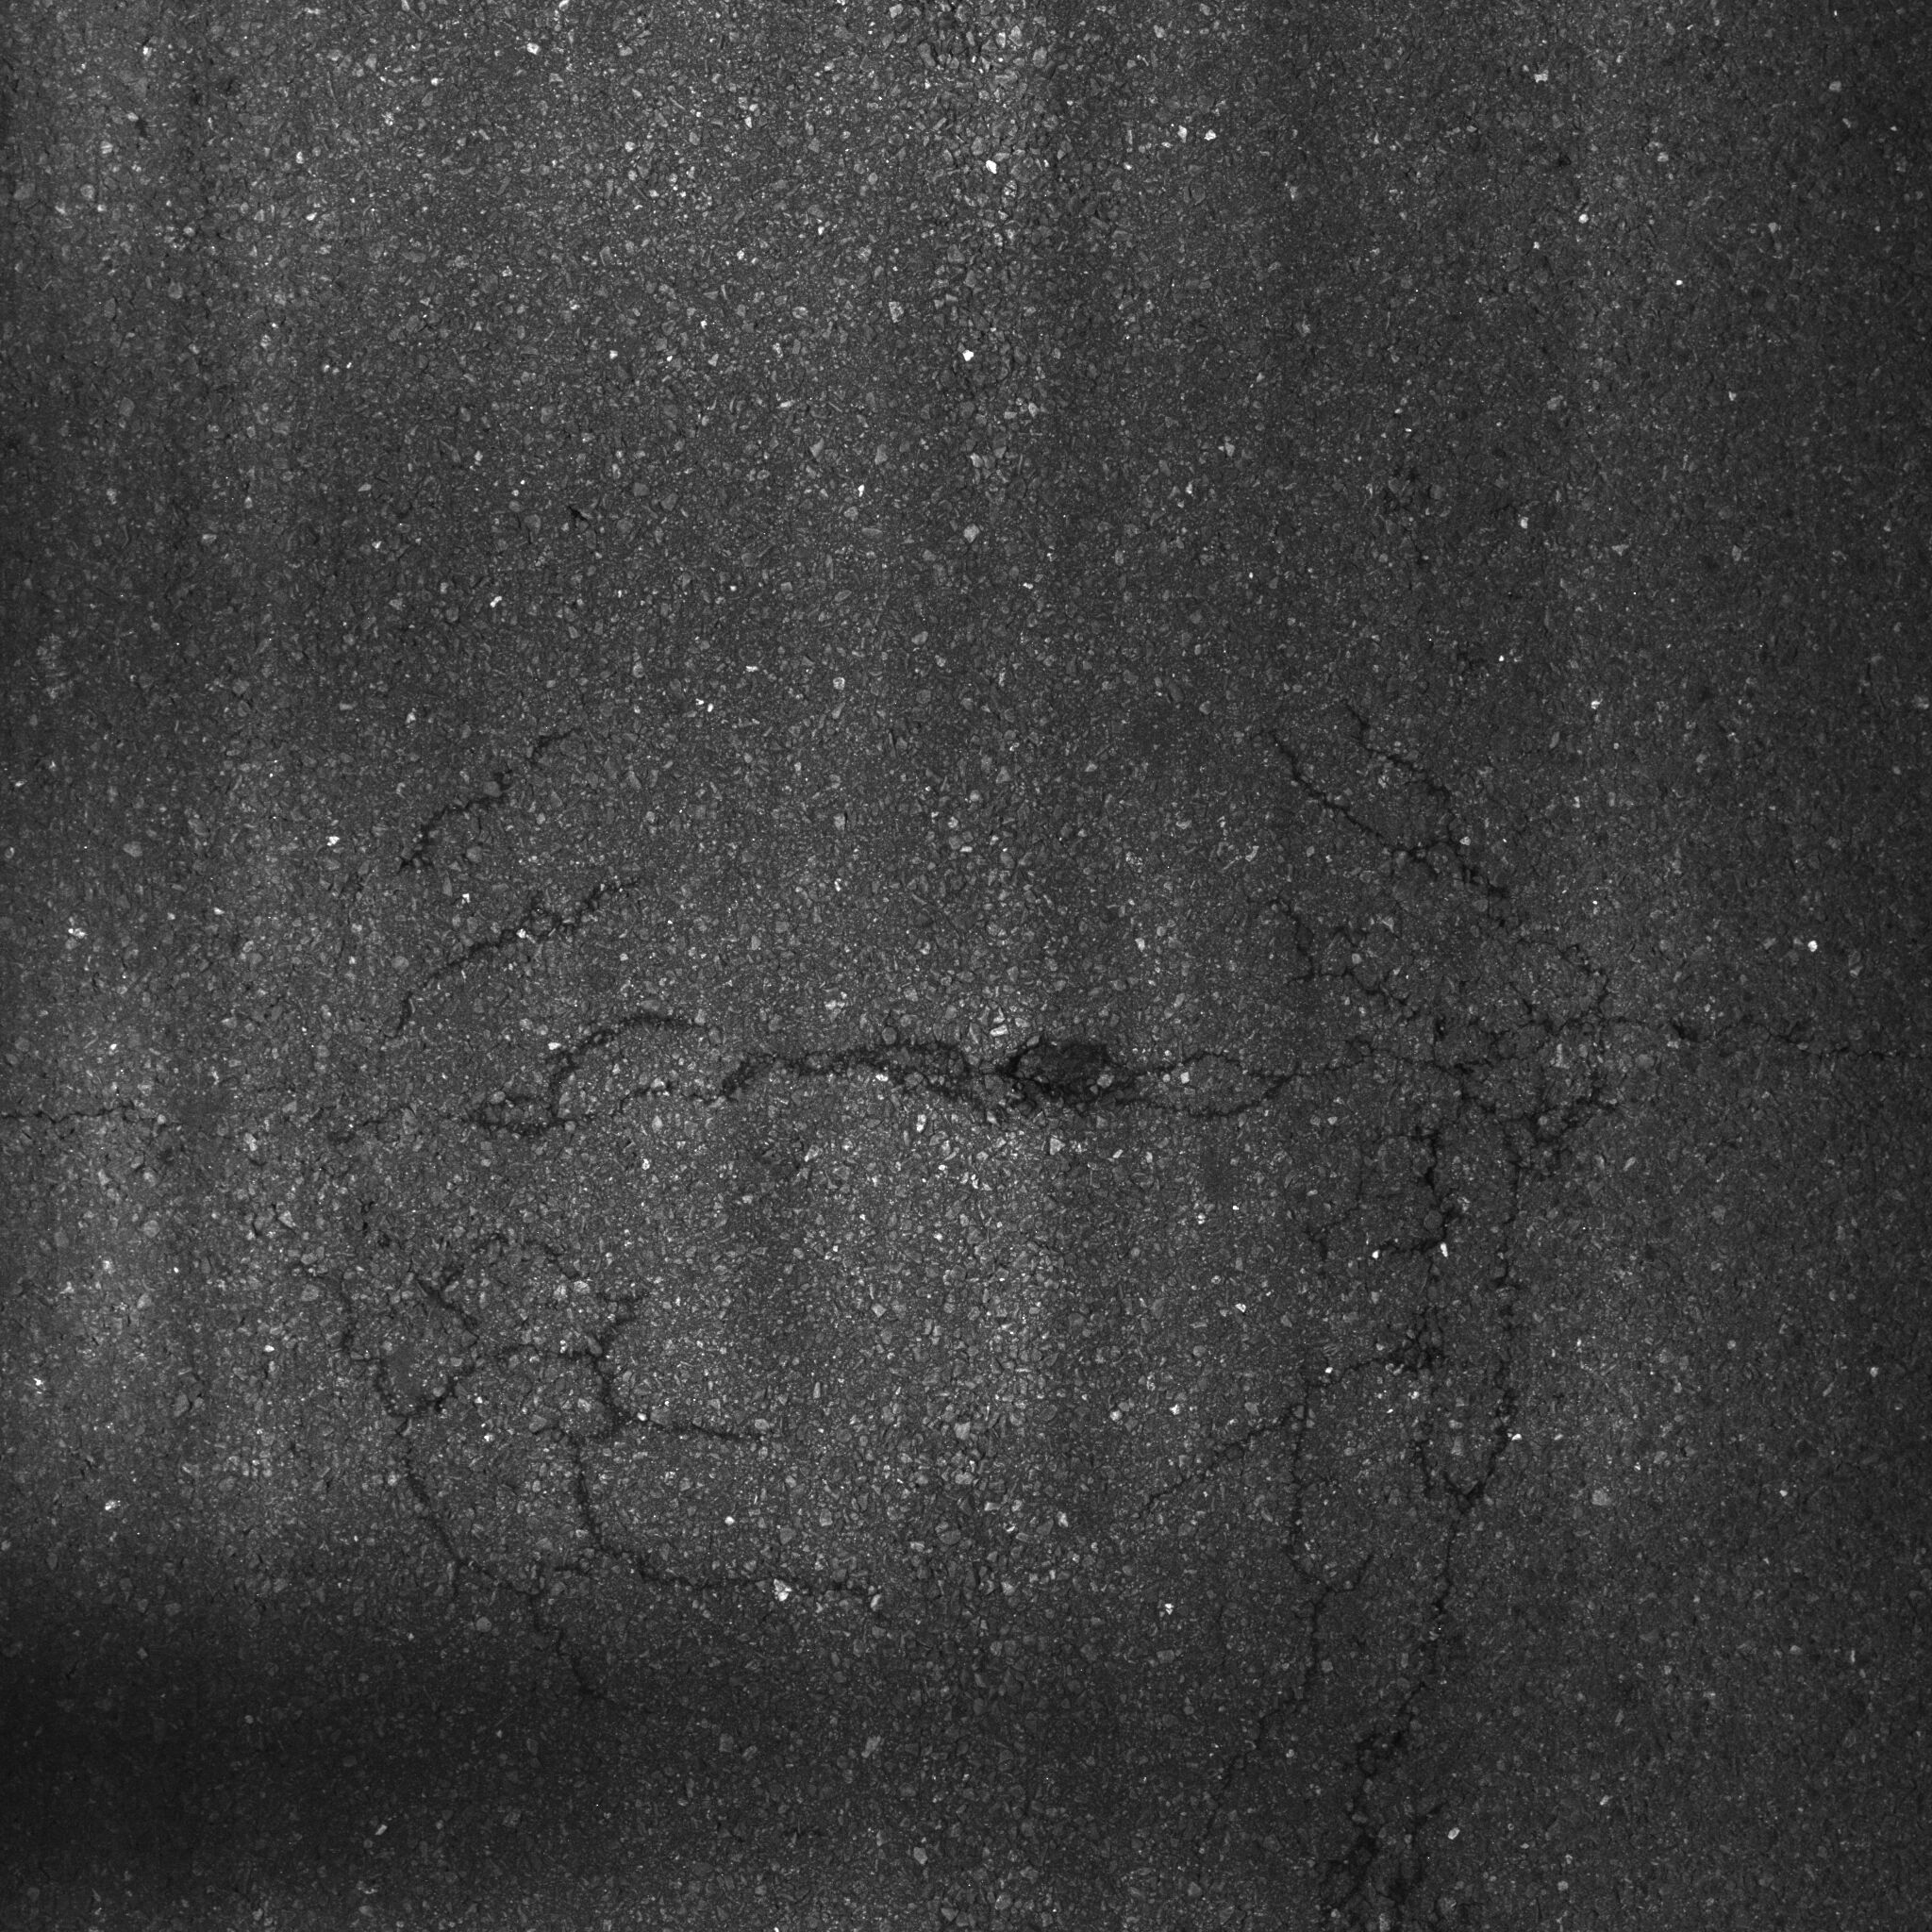alligator: (76, 694, 1688, 1932)
